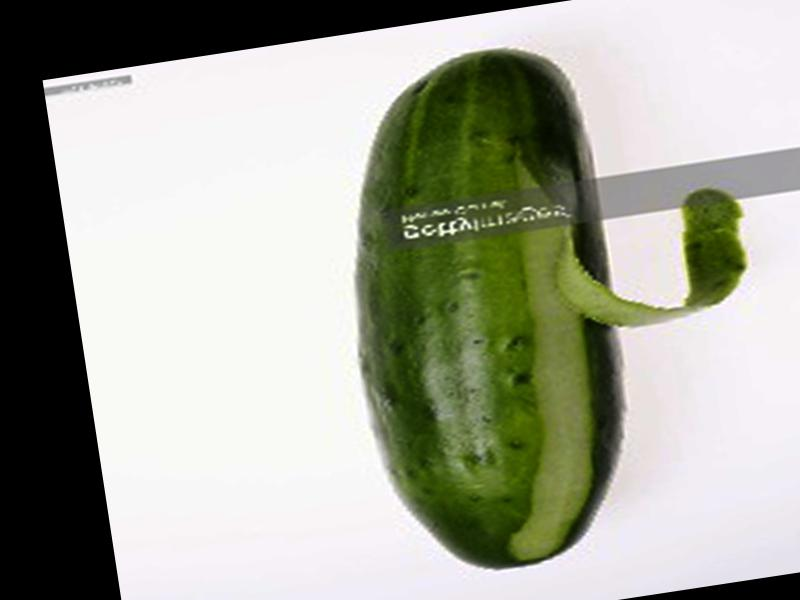Cucumber: (320, 36, 655, 587)
